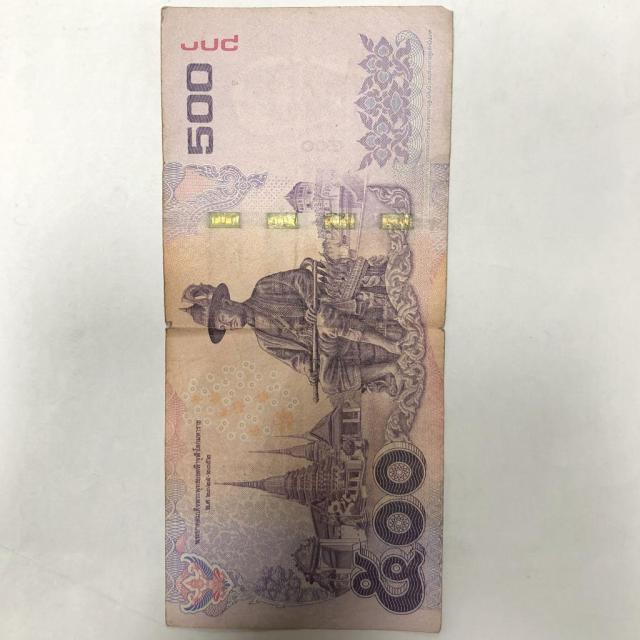THAI500: (162, 7, 452, 632)
